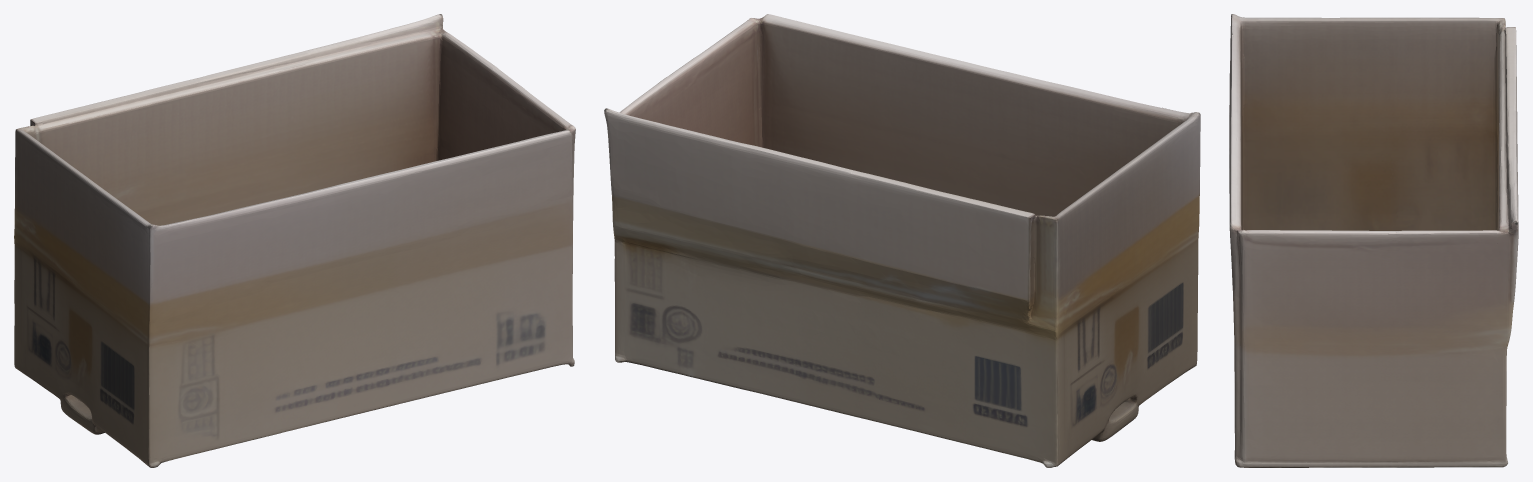
3 renders of one model, left to right at view 1: azimuth 30°, elevation 25°; view 2: azimuth 150°, elevation 25°; view 3: azimuth 270°, elevation 25°, orthographic. The views are drawn at different scales.
Parts seen in each view (by area): view 1: world; view 2: world; view 3: world.
Part boxes in pixels (bbox=[...]): world: bbox=[14, 14, 575, 467]; world: bbox=[604, 14, 1200, 467]; world: bbox=[1229, 14, 1518, 467].
Bounding box in the file's own units: 0.9979 × 0.5622 × 0.5772.
Materials: 1 (1 with a texture image).
